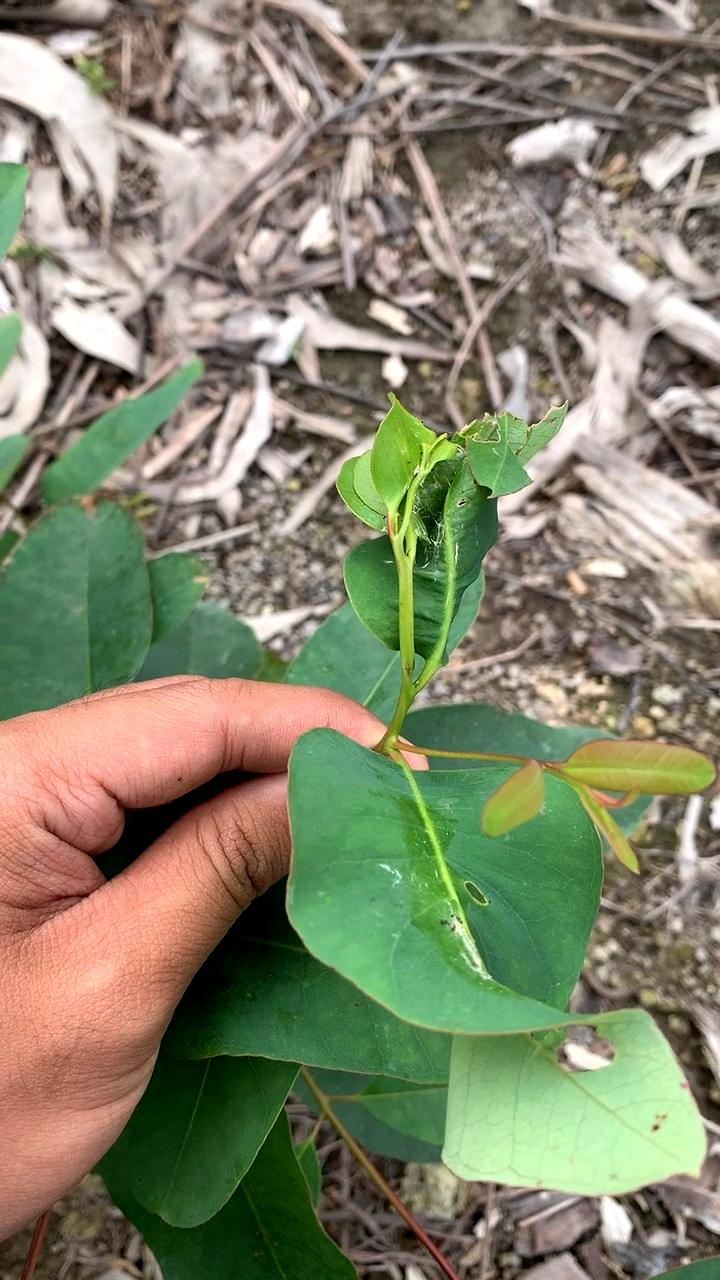Leaf Roller - Leaf: (343, 421, 541, 653)
